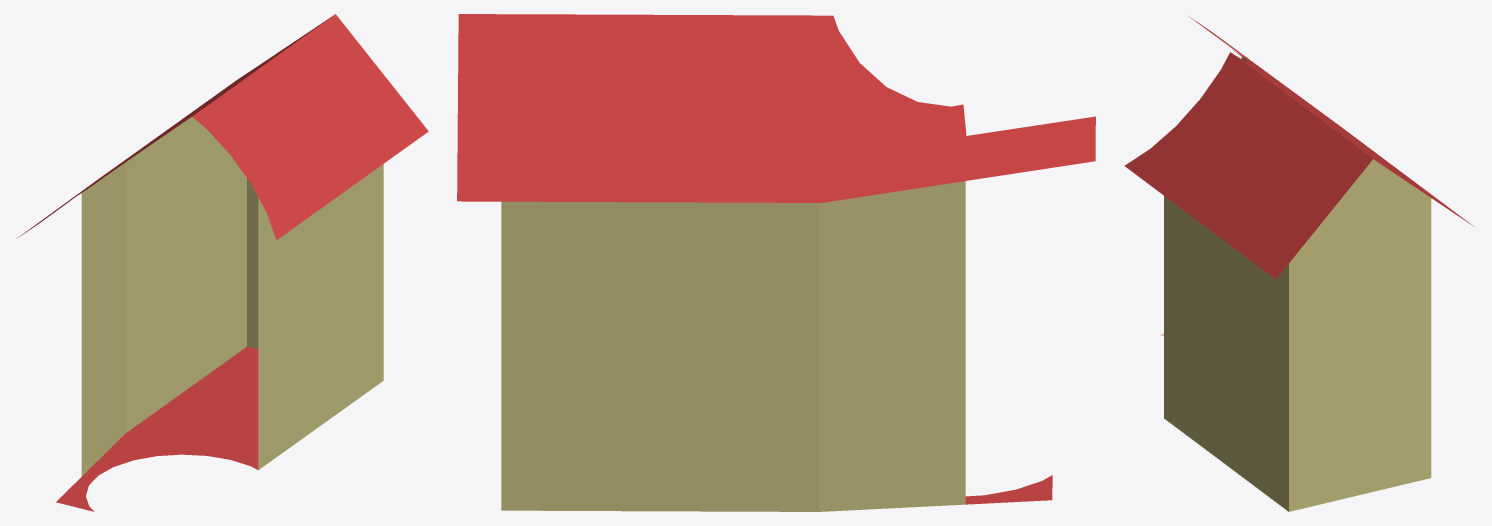
3 renders of one model, left to right at view 1: azimuth 30°, elevation 25°; view 2: azimuth 150°, elevation 25°; view 3: azimuth 270°, elevation 25°, orthographic. The views are drawn at different scales.
Bounding box in the file's own units: 11.75 × 7.81 × 8.51.
